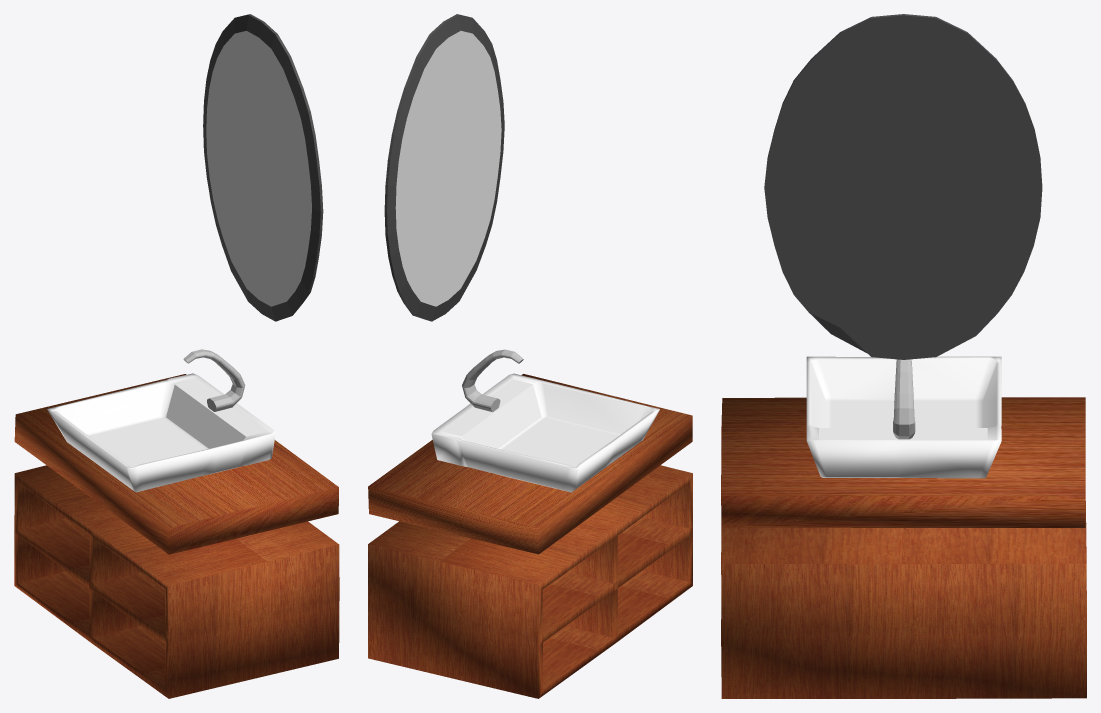
The model's file is sink_set.dae.
3 views of the same model, side by side, from view 1: azimuth 30°, elevation 25°; view 2: azimuth 150°, elevation 25°; view 3: azimuth 270°, elevation 25° (orthographic). The views are drawn at different scales.
Visible parts, largest first — view 1: Cube, Glass, Cube.003, Cylinder; view 2: Cube, Glass, Cube.003, Cylinder; view 3: Cube, Glass, Cube.003, Cylinder.
Part boxes in pixels (box(x1,y1,x2,y2)): Cube: box(14, 374, 339, 698); Glass: box(203, 14, 323, 321); Cube.003: box(47, 373, 275, 492); Cylinder: box(183, 349, 245, 411); Cube: box(368, 374, 692, 698); Glass: box(384, 14, 504, 321); Cube.003: box(431, 373, 659, 492); Cylinder: box(462, 349, 523, 412); Cube: box(721, 397, 1086, 698); Glass: box(764, 14, 1042, 359); Cube.003: box(806, 356, 1001, 478); Cylinder: box(893, 359, 915, 439).
Size of the model in its own units: 0.7208 by 1.1 by 2.27.
